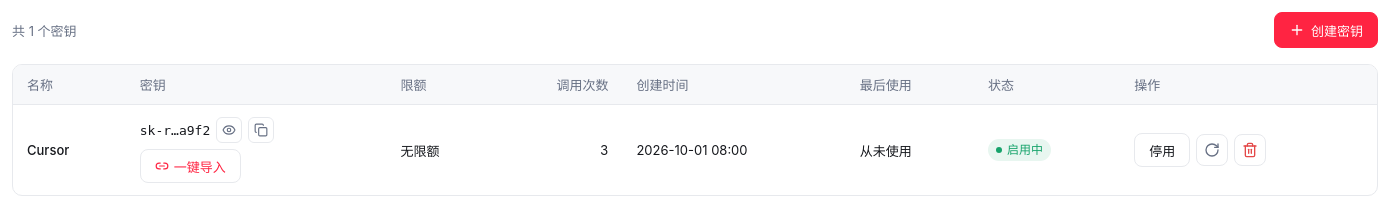
ApiKeysView › 列表中的密钥只有一个显示按钮，可切换明文和掩码
Expected: the text with test id "key-value-k1" reads "sk-r…a9f2", top-left (140, 122), bottom-right (210, 138)
# 点击小眼睛显示完整密钥
Click the button with test id "toggle-plain-k1": (229, 130) top-left (216, 117), bottom-right (242, 143)
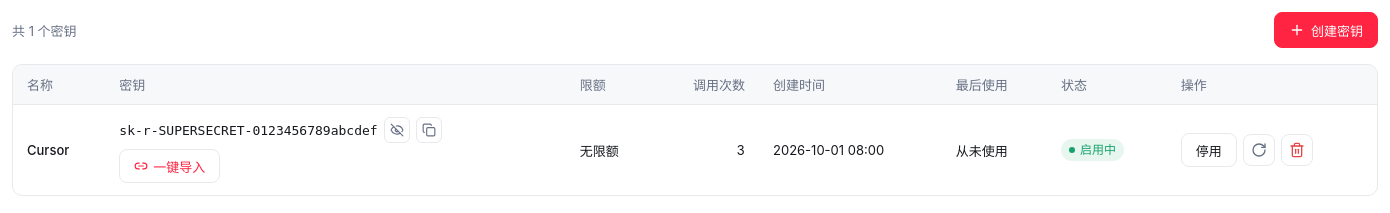
Result: the text with test id "key-value-k1" reads "sk-r-SUPERSECRET-0123456789abcdef" at top-left (119, 122), bottom-right (378, 138)
Click the button with test id "toggle-plain-k1": (397, 130) top-left (384, 117), bottom-right (410, 143)
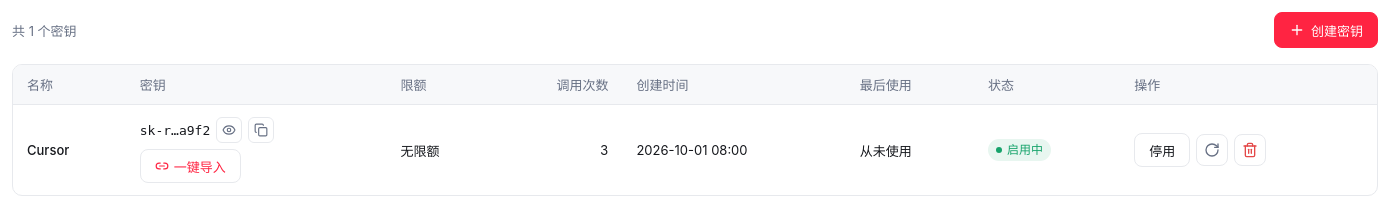
Result: the text with test id "key-value-k1" reads "sk-r…a9f2" at top-left (140, 122), bottom-right (210, 138)
